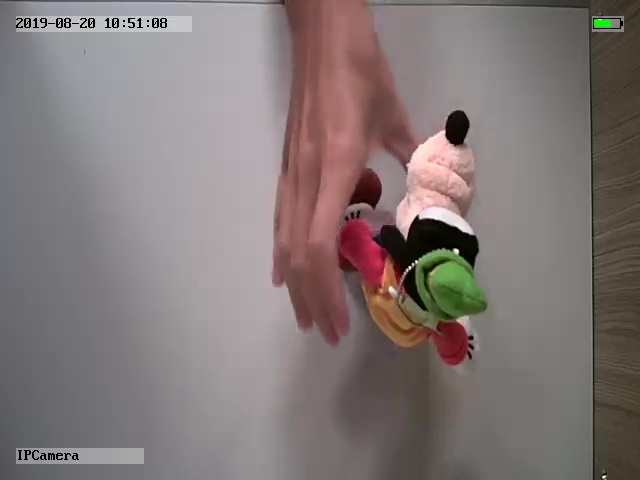goofy: (336, 109, 489, 371)
